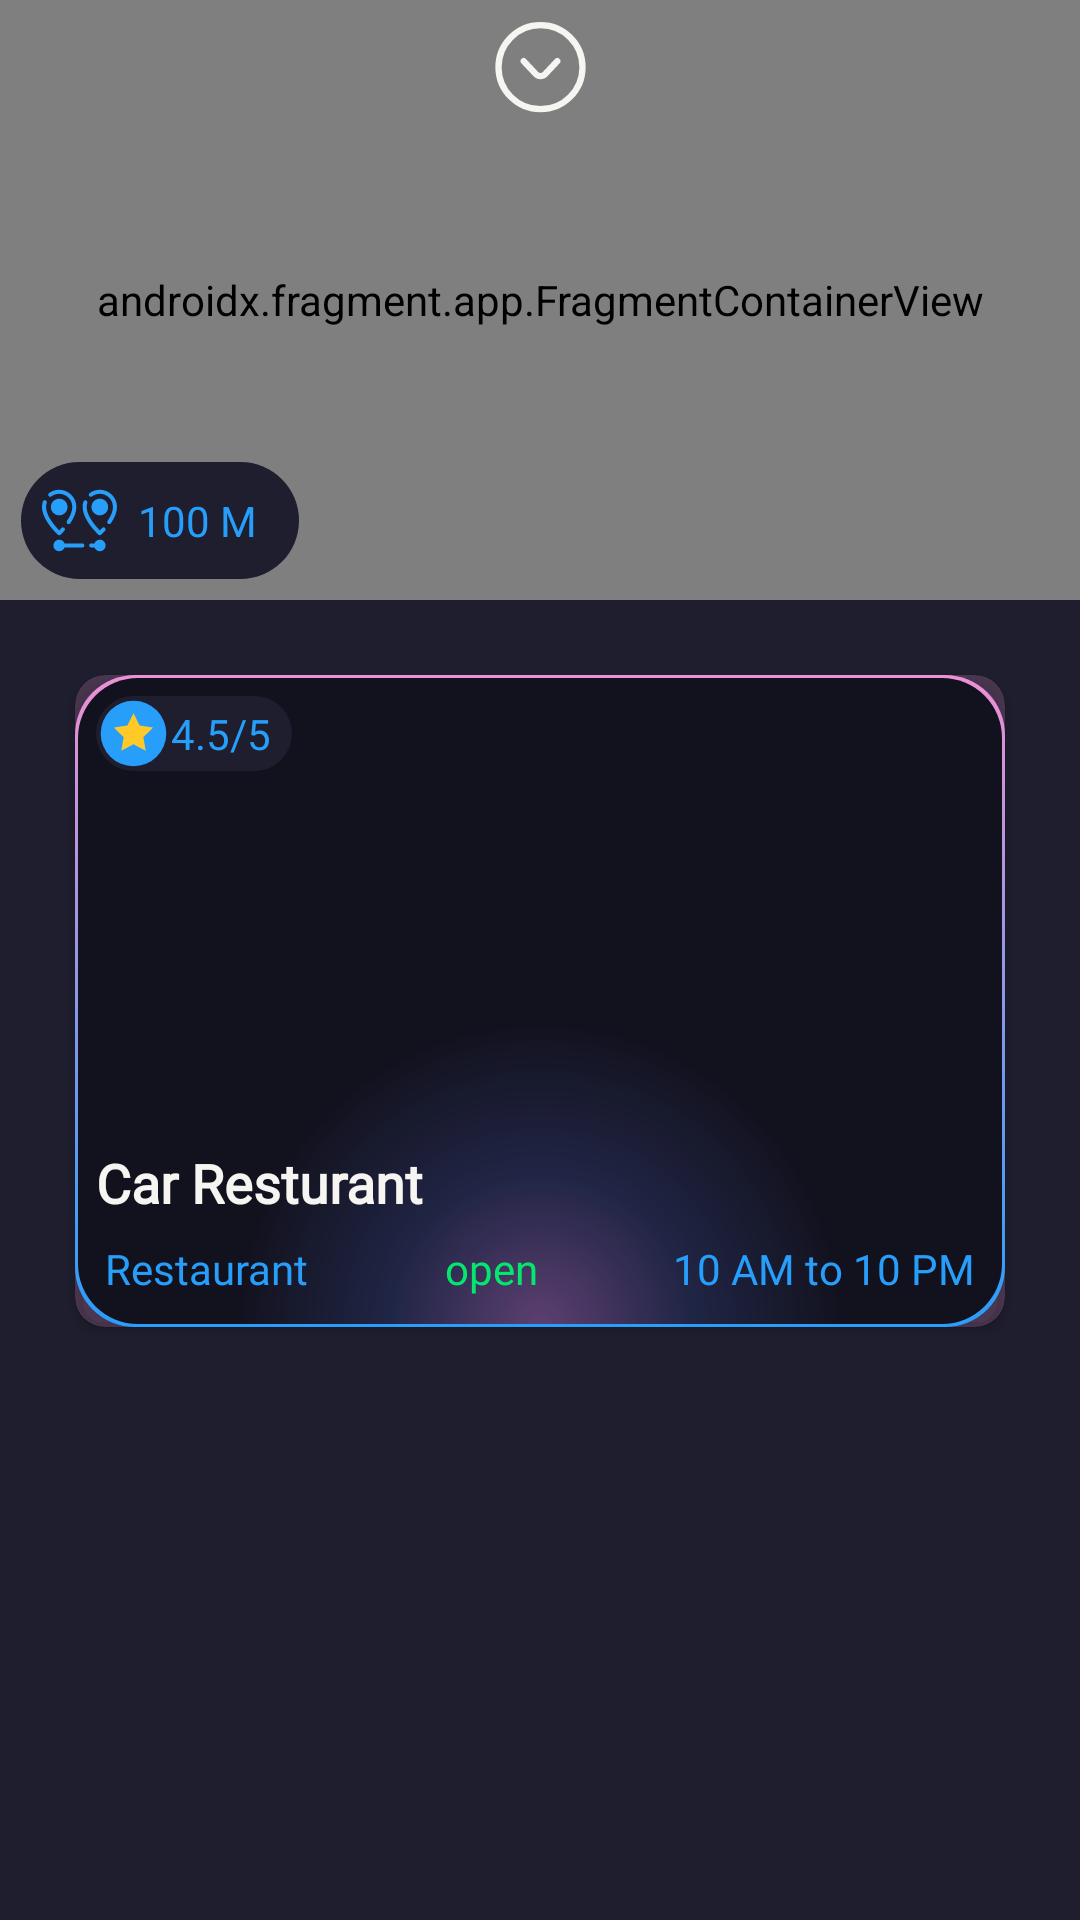

Point at icon controls on the screen. Image size 1080px x 1920px, points as [x,y].
distance: [79,520]
down: [540,67]
rating: [133,733]
